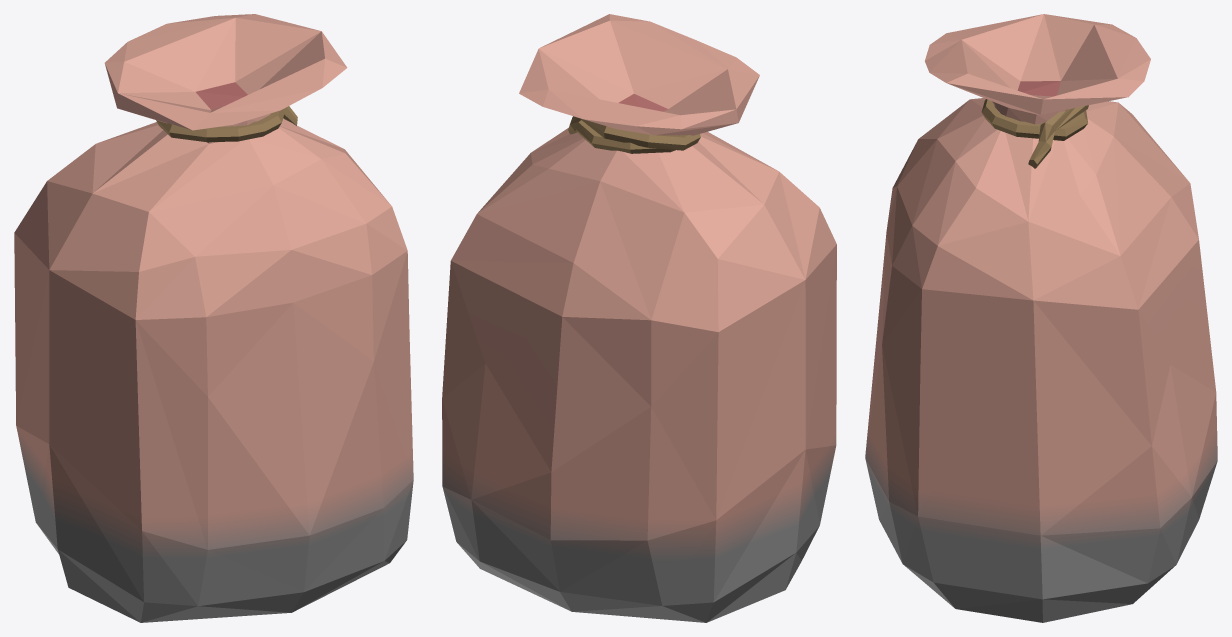
Rendered from Bag_04.fbx.
3 renders of one model, left to right at view 1: azimuth 30°, elevation 25°; view 2: azimuth 150°, elevation 25°; view 3: azimuth 270°, elevation 25°, orthographic. The views are drawn at different scales.
Parts seen in each view (by area): view 1: Bag_04; view 2: Bag_04; view 3: Bag_04.
Boxes of the visible parts, x1,y1,x2,y2 form: Bag_04: (14, 14, 413, 622); Bag_04: (442, 14, 836, 622); Bag_04: (865, 14, 1217, 622).
Bounding box in the file's own units: 48.94 × 70.46 × 44.4.
